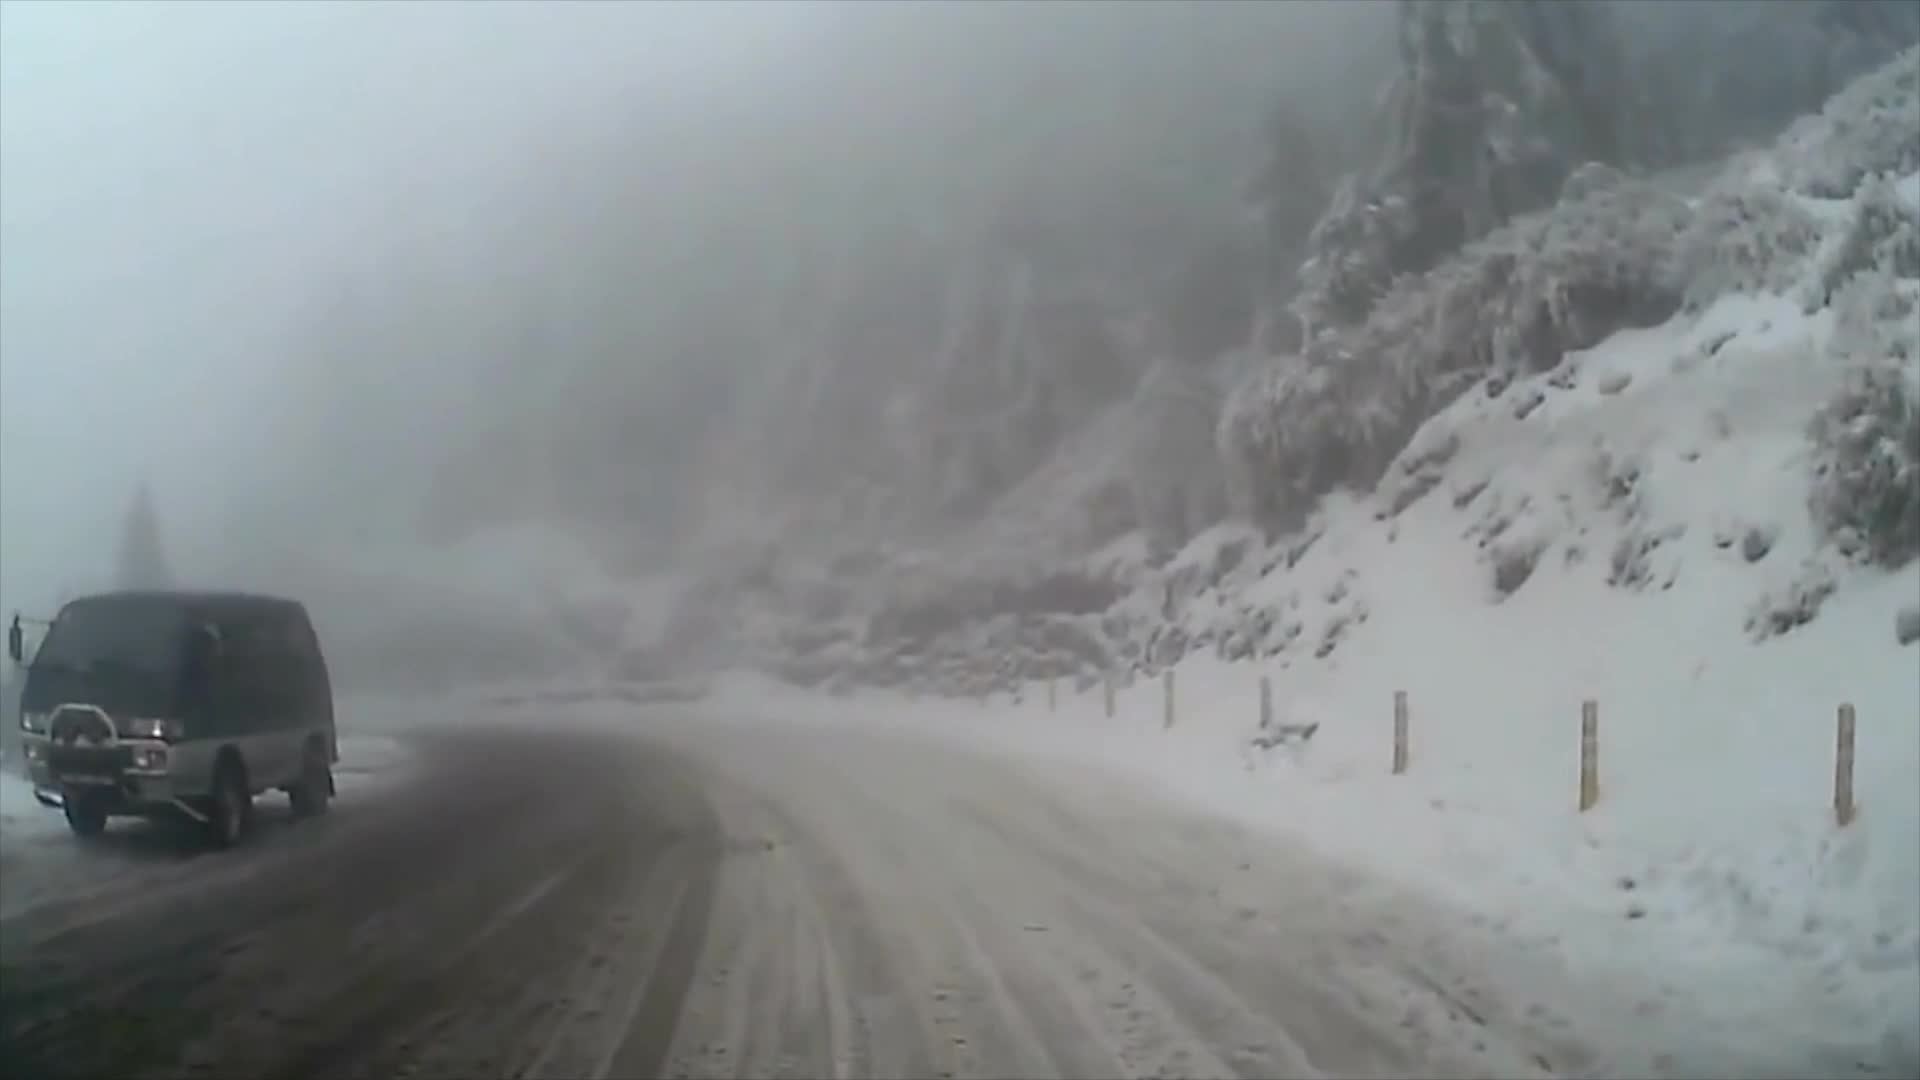vehicle: (11, 585, 339, 844)
